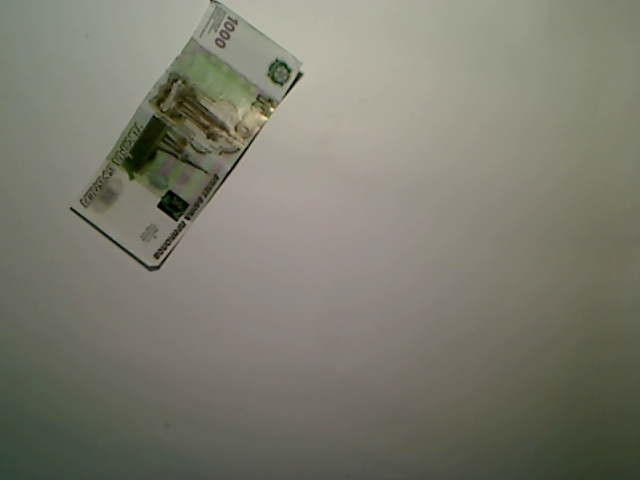banknotes: (66, 1, 306, 271)
